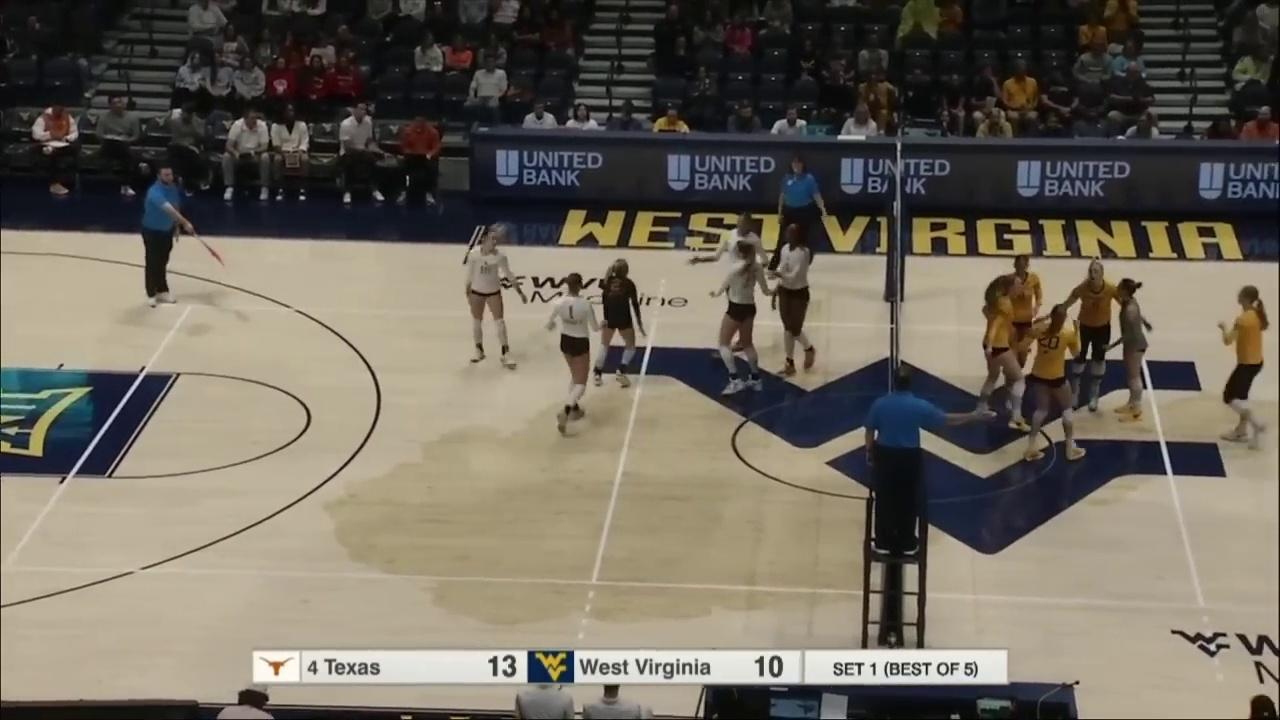player: (702, 210, 769, 367), (545, 276, 609, 437), (1023, 303, 1087, 463), (1218, 286, 1273, 446), (1068, 259, 1120, 423), (979, 275, 1032, 434), (463, 226, 521, 370), (712, 240, 764, 394), (769, 220, 819, 377), (1000, 253, 1044, 418), (591, 260, 644, 390), (1117, 273, 1152, 426)
refree: (864, 366, 974, 558), (763, 155, 825, 286), (136, 163, 187, 309)
